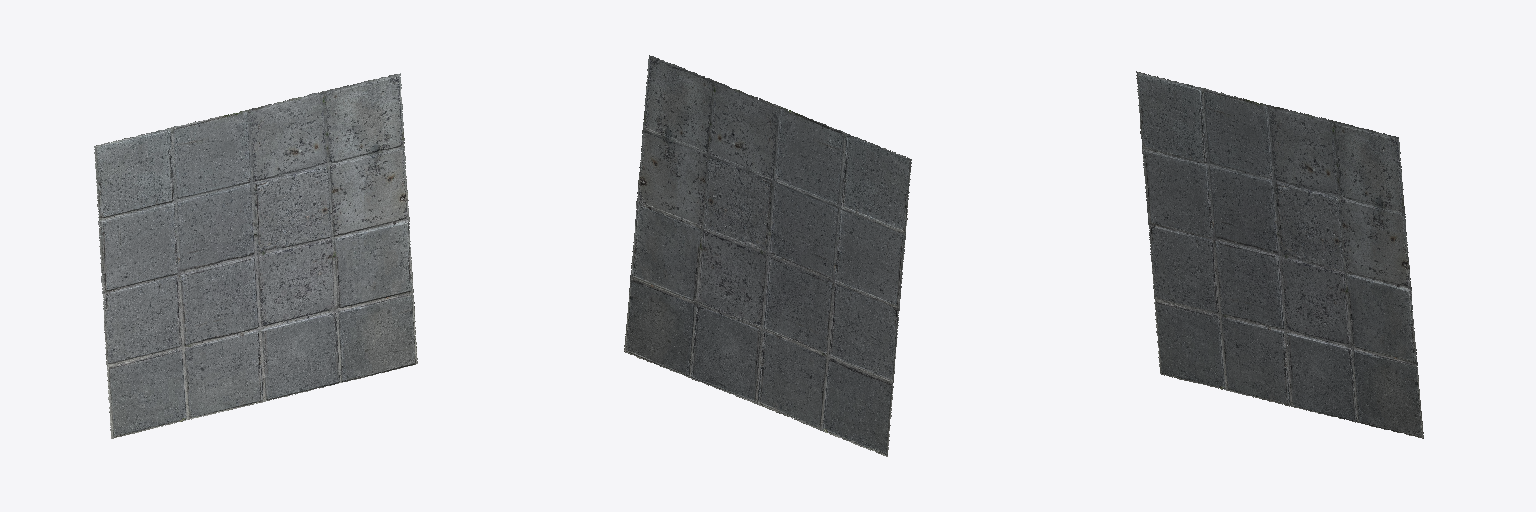
3 renders of one model, left to right at view 1: azimuth 30°, elevation 25°; view 2: azimuth 150°, elevation 25°; view 3: azimuth 330°, elevation 25°, orthographic.
Bounding box in the file's own units: 24.52 × 24.48 × 3.5.
1 materials, 1 textured.